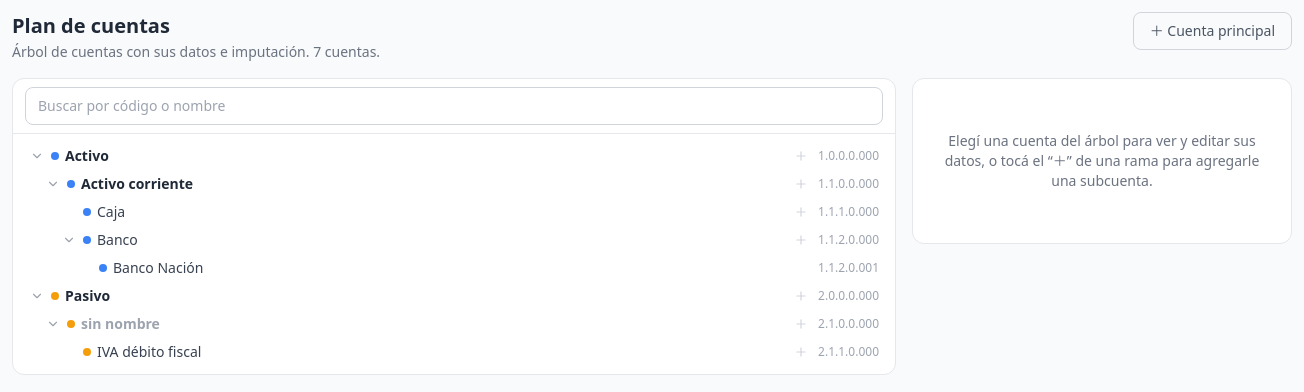
Test case: Plan de cuentas › muestra el árbol jerárquico y se puede plegar una rama
expect the text "Activo corriente" is shown: met, box top-left (81, 174), bottom-right (193, 194)
expect the text "Caja" is shown: met, box top-left (97, 202), bottom-right (125, 222)
Click the button named "Plegar 1.1.0.0.000": (53, 184) top-left (45, 176), bottom-right (61, 192)
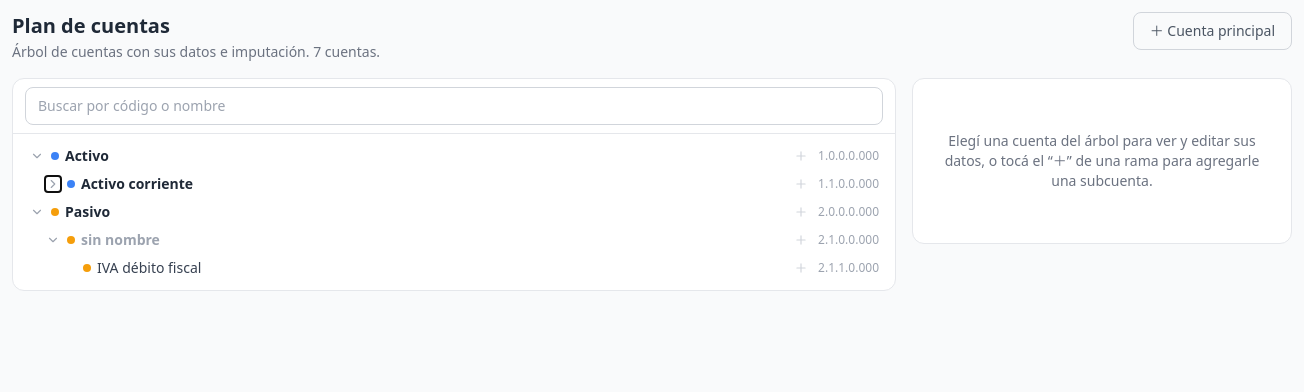
expect the text "Activo corriente" is shown: met, box top-left (81, 174), bottom-right (193, 194)
expect the text "Caja" is gone: met
